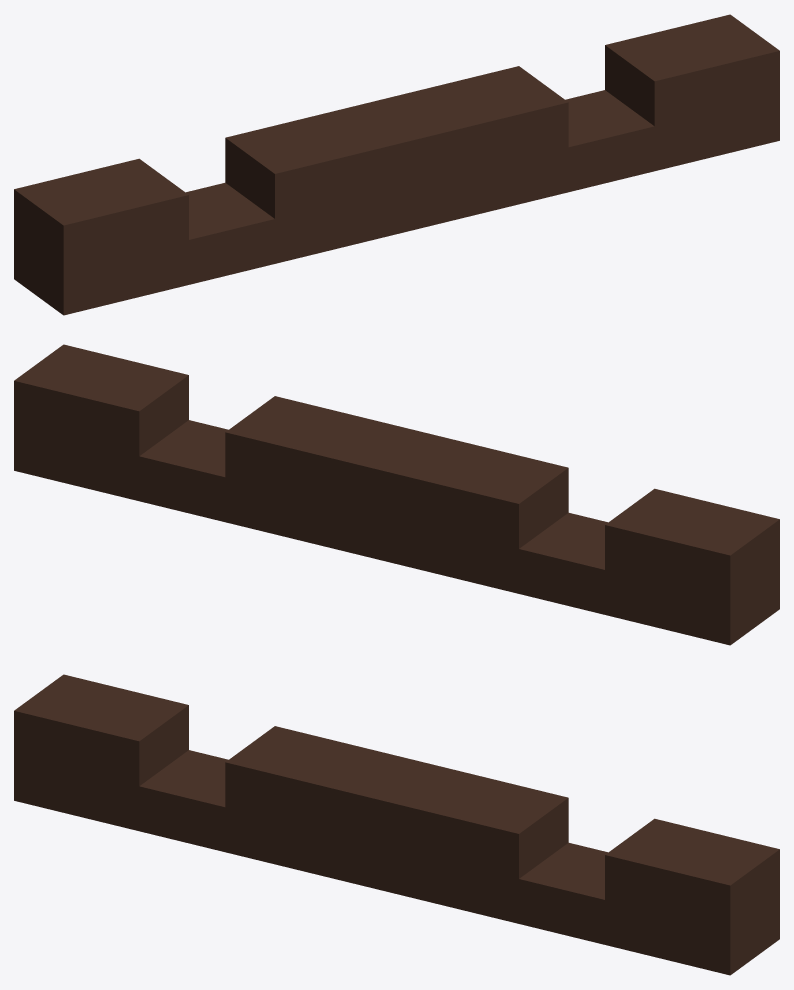
Rendered from 827_double_notched_sill_beam.fbx.
3 renders of one model, top to bottom at view 1: azimuth 30°, elevation 25°; view 2: azimuth 150°, elevation 25°; view 3: azimuth 330°, elevation 25°, orthographic.
Visible parts, largest first — view 1: 827_double_notched_sill_beam; view 2: 827_double_notched_sill_beam; view 3: 827_double_notched_sill_beam.
Part boxes in pixels (x1,y1,x2,y2): 827_double_notched_sill_beam: [14, 14, 779, 315]; 827_double_notched_sill_beam: [14, 344, 779, 645]; 827_double_notched_sill_beam: [14, 674, 779, 975].
Bounding box in the file's own units: 2 × 0.24 × 0.24.
Materials: 1 (1 with a texture image).
